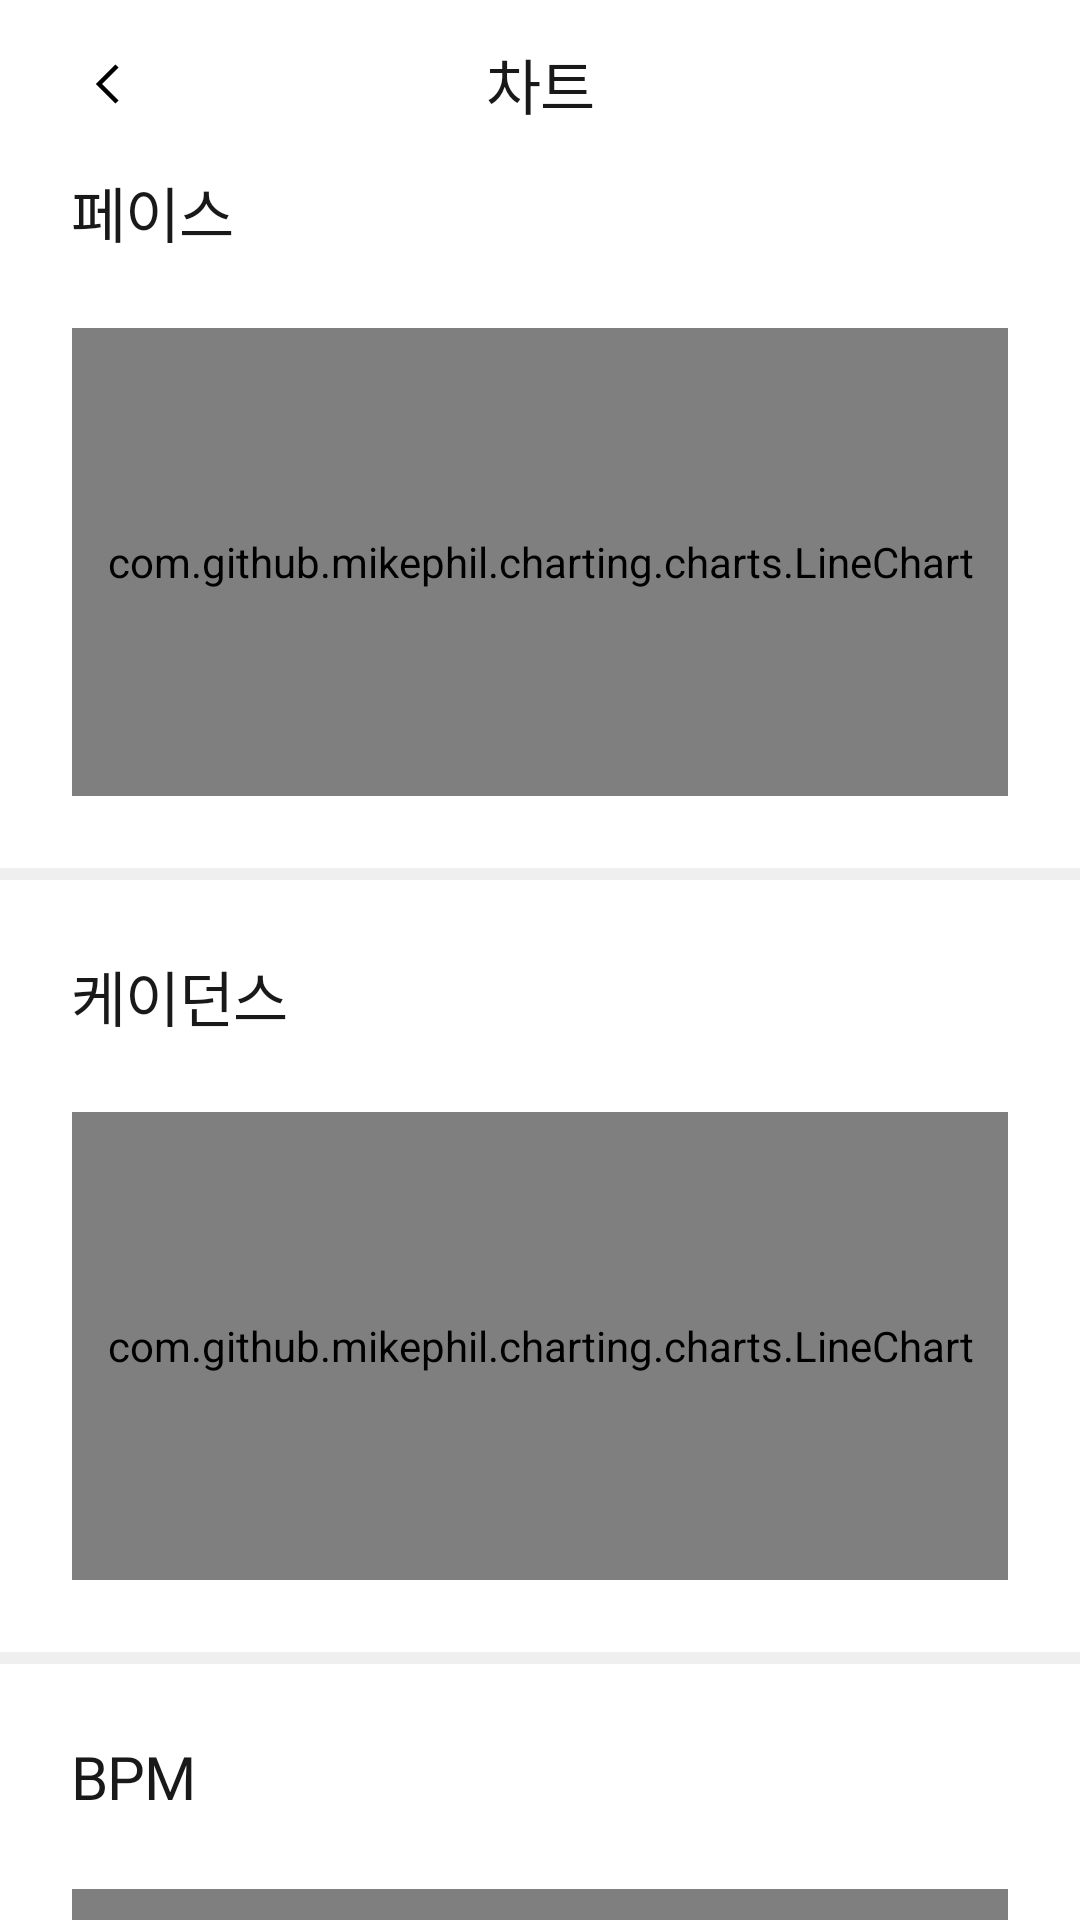

Icon bounding boxes for this 1080 × 1920 phone screenshot, format (left=x1, top=y1, right=x2, bottom=y2):
all arrow: (left=96, top=64, right=119, bottom=104)
